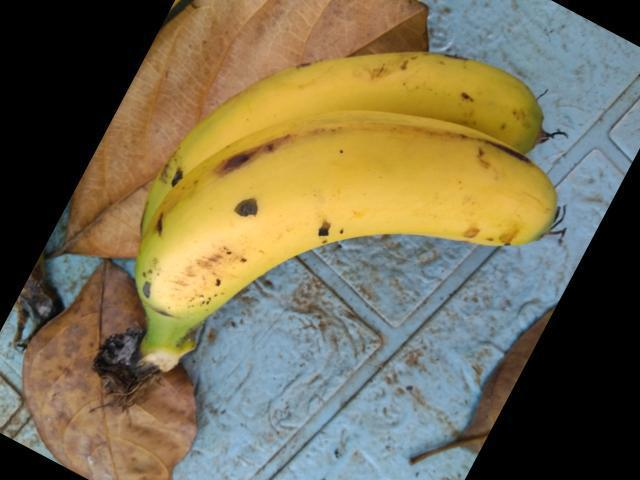ripe: (119, 110, 565, 325), (124, 29, 550, 178)
